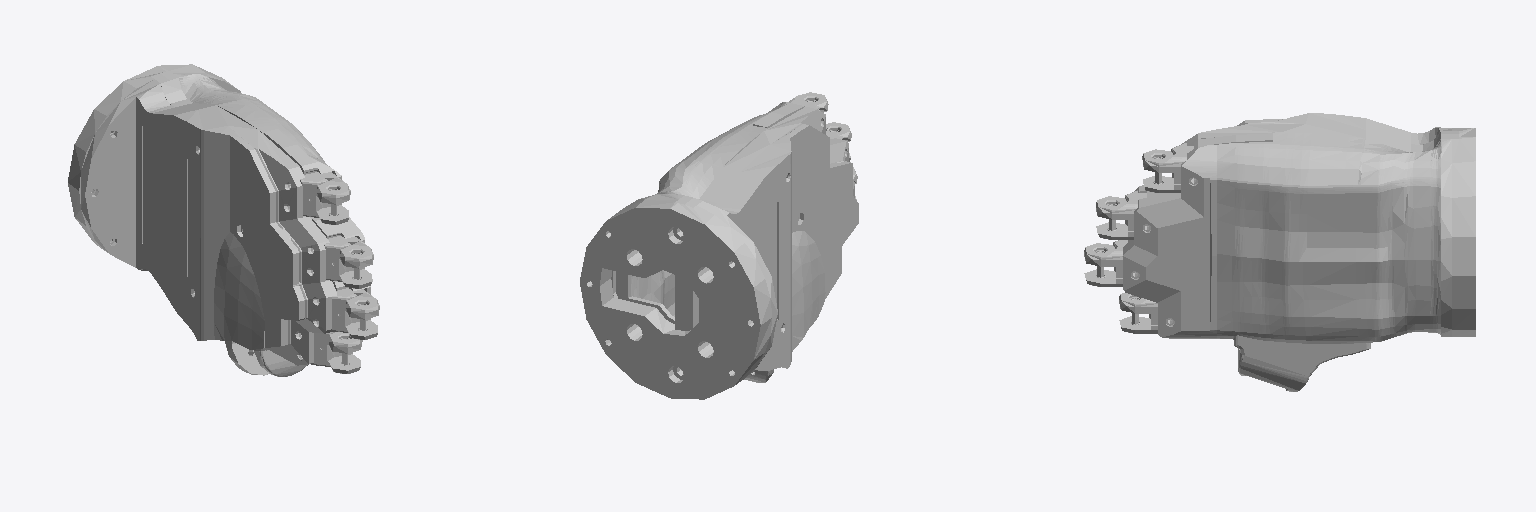
Rendered from palm_r.obj.
3 renders of one model, left to right at view 1: azimuth 30°, elevation 25°; view 2: azimuth 150°, elevation 25°; view 3: azimuth 270°, elevation 25°, orthographic.
Size of the model in its own units: 0.09 by 0.1187 by 0.1684.